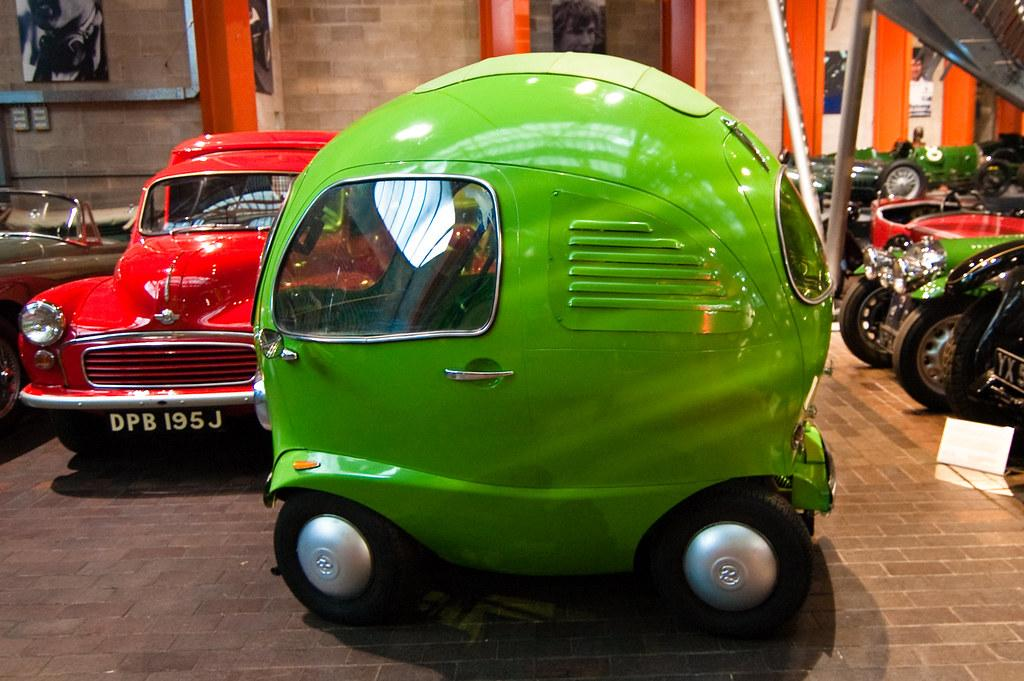car: (251, 51, 839, 636), (16, 130, 373, 456), (1, 188, 129, 424)
